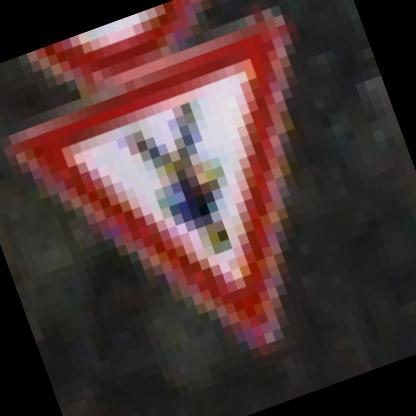crosswalk: (0, 13, 393, 415)
